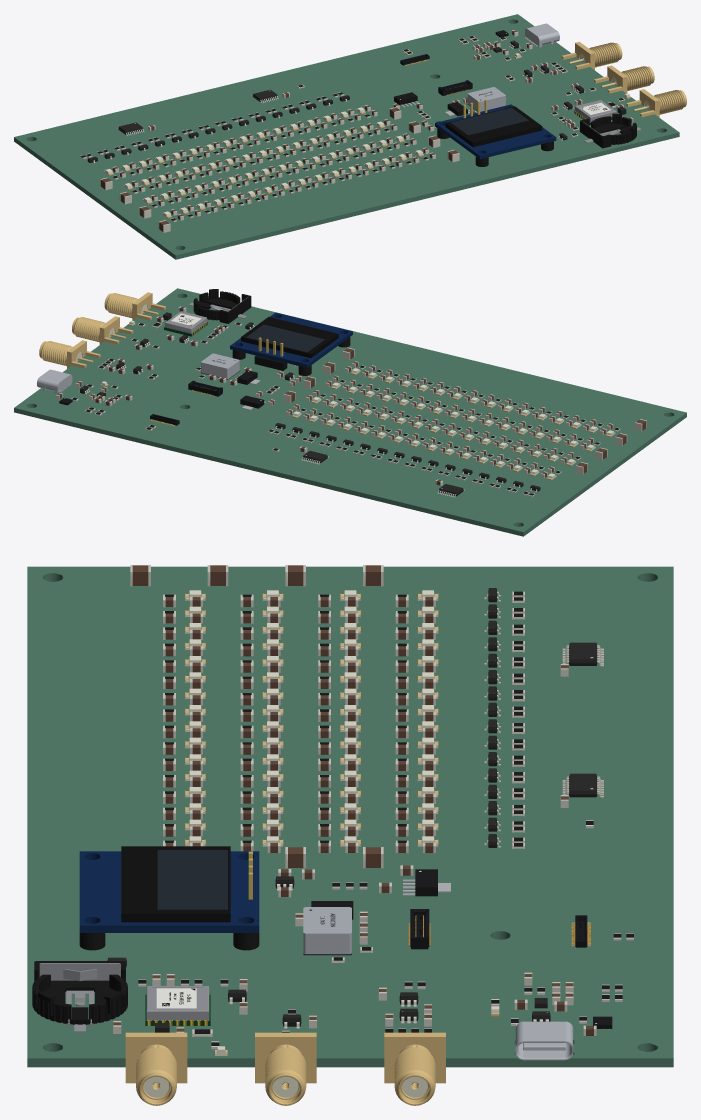
The model's file is carrier.glb.
3 renders of one model, top to bottom at view 1: azimuth 30°, elevation 25°; view 2: azimuth 150°, elevation 25°; view 3: azimuth 270°, elevation 25°, orthographic. The views are drawn at different scales.
Visible parts, largest first — view 1: =>[0:1:1:104], DS1, BT1, J7, J6, J5, Y1, U6, J3; view 2: =>[0:1:1:104], DS1, BT1, J5, J6, J7, Y1, U6, J3, J8; view 3: =>[0:1:1:104], DS1, BT1, J5, J7, J6, U6, Y1, J3, U17, U4, U3 (+1 smaller).
Part boxes in pixels (x1,y1,x2,y2): =>[0:1:1:104]: (14,14,679,259); DS1: (435,104,556,166); BT1: (580,113,641,148); J7: (594,65,654,93); J6: (561,41,622,70); J5: (626,89,686,117); Y1: (467,87,505,111); U6: (574,100,616,124); J3: (525,23,559,47); =>[0:1:1:104]: (14,288,686,536); DS1: (230,312,352,375); BT1: (189,289,251,323); J5: (104,292,165,320); J6: (39,340,100,368); J7: (72,316,133,344); Y1: (200,353,240,379); U6: (164,311,207,336); J3: (37,369,72,393); J8: (254,337,287,370); =>[0:1:1:104]: (27,566,673,1067); DS1: (79,846,259,950); BT1: (32,961,127,1032); J5: (125,1032,187,1105); J7: (255,1032,316,1105); J6: (384,1032,445,1105); U6: (145,986,210,1025); Y1: (303,907,351,955); J3: (515,1021,573,1060); U17: (403,869,450,896); U4: (562,773,603,797); U3: (562,642,603,666).
Size of the model in its own units: 0.1927 by 0.0121 by 0.1.
